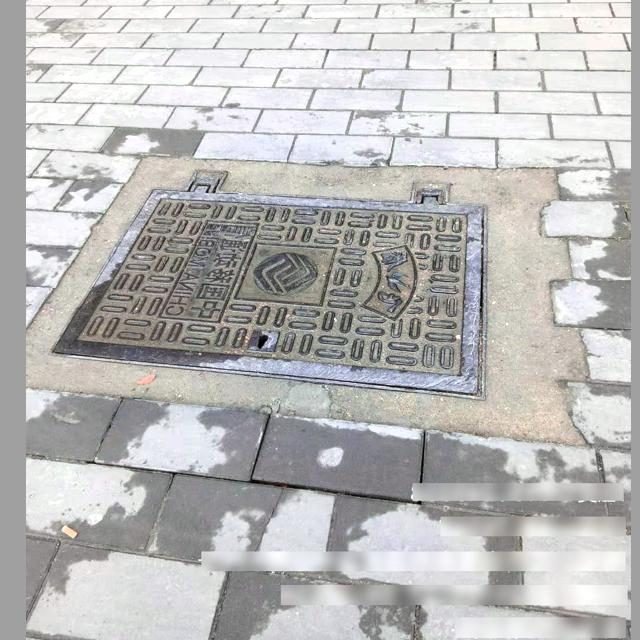good: (42, 178, 504, 393)
